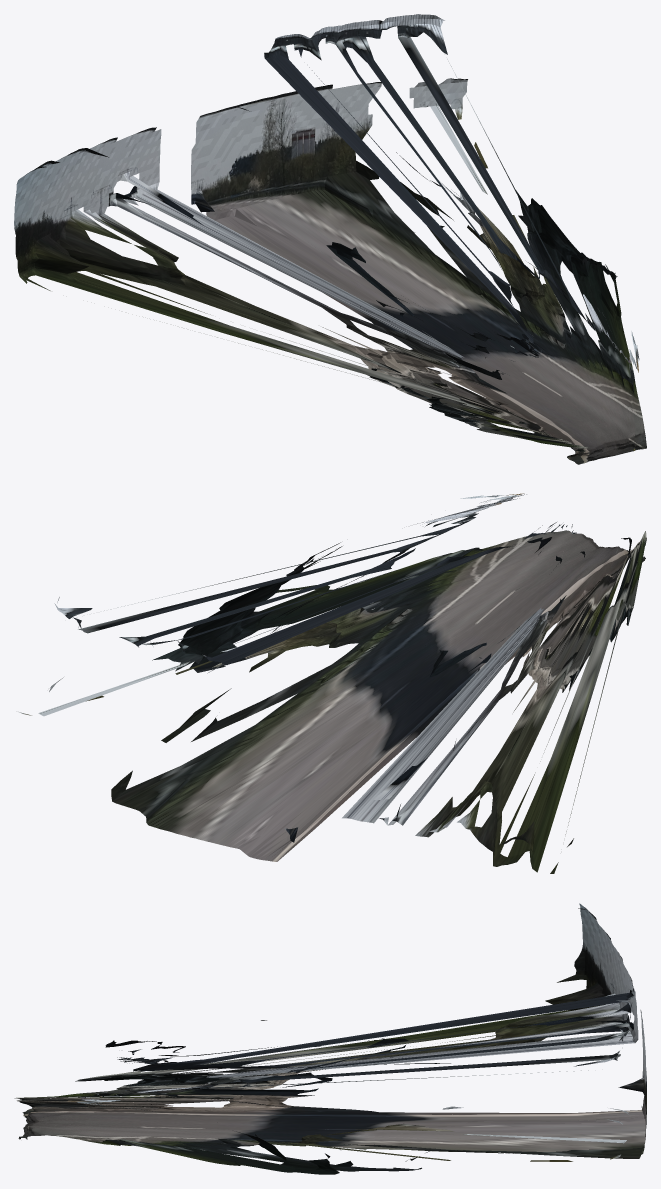
3 renders of one model, top to bottom at view 1: azimuth 30°, elevation 25°; view 2: azimuth 150°, elevation 25°; view 3: azimuth 270°, elevation 25°, orthographic. The views are drawn at different scales.
Parts seen in each view (by area): view 1: defaultobject; view 2: defaultobject; view 3: defaultobject.
Part boxes in pixels (box(x1,y1,x2,y2)): defaultobject: box(14, 14, 646, 464); defaultobject: box(19, 493, 646, 873); defaultobject: box(14, 903, 646, 1174).
Bounding box in the file's own units: 34.32 × 12.24 × 44.9.
1 material, 1 textured.
